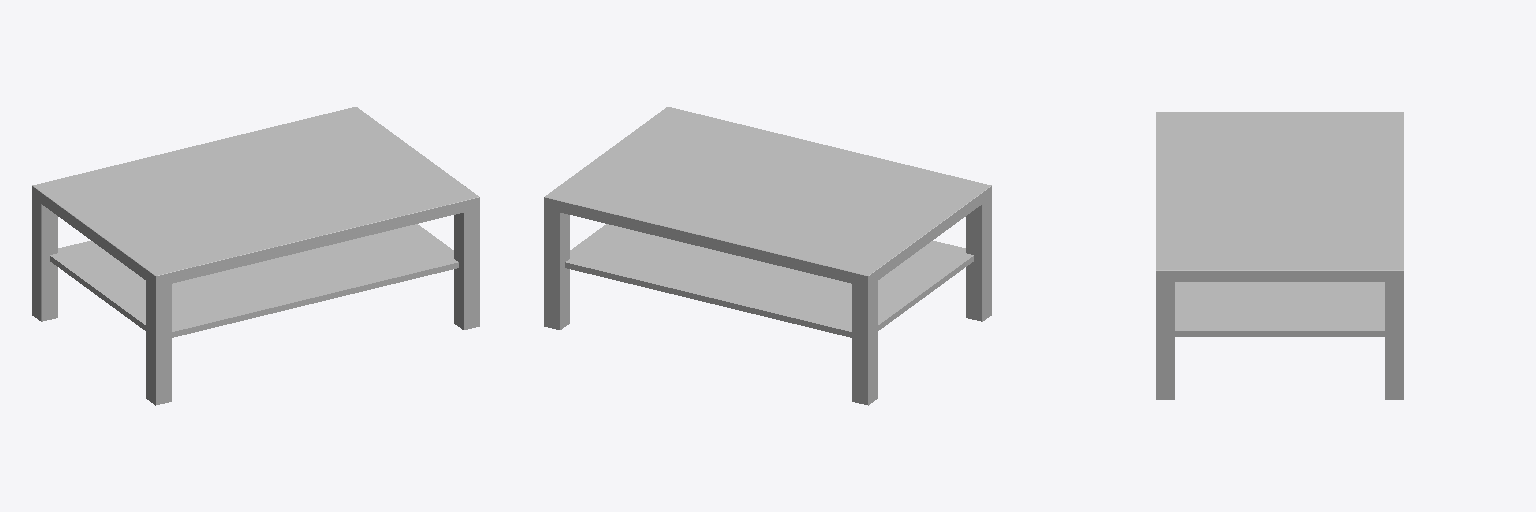
File: IKEA-LACK_coffee_table_dark-3D.obj
3 views of the same model, side by side, from view 1: azimuth 30°, elevation 25°; view 2: azimuth 150°, elevation 25°; view 3: azimuth 270°, elevation 25° (orthographic).
Parts seen in each view (by area): view 1: Box001, Box002, Box003, Box004, Box006; view 2: Box001, Box002, Box006, Box005, Box003; view 3: Box001, Box002, Box004, Box005.
Part boxes in pixels (left/top/right/bottom): Box001: left=32, top=107, right=479, bottom=287; Box002: left=50, top=224, right=458, bottom=337; Box003: left=146, top=281, right=171, bottom=405; Box004: left=454, top=209, right=479, bottom=329; Box006: left=32, top=198, right=57, bottom=321; Box001: left=544, top=107, right=991, bottom=287; Box002: left=565, top=224, right=973, bottom=337; Box006: left=852, top=281, right=877, bottom=405; Box005: left=544, top=209, right=569, bottom=329; Box003: left=966, top=198, right=991, bottom=321; Box001: left=1156, top=112, right=1403, bottom=281; Box002: left=1175, top=282, right=1384, bottom=336; Box004: left=1156, top=282, right=1174, bottom=399; Box005: left=1385, top=282, right=1403, bottom=399.
Bounding box in the file's own units: 1180 × 450 × 780.